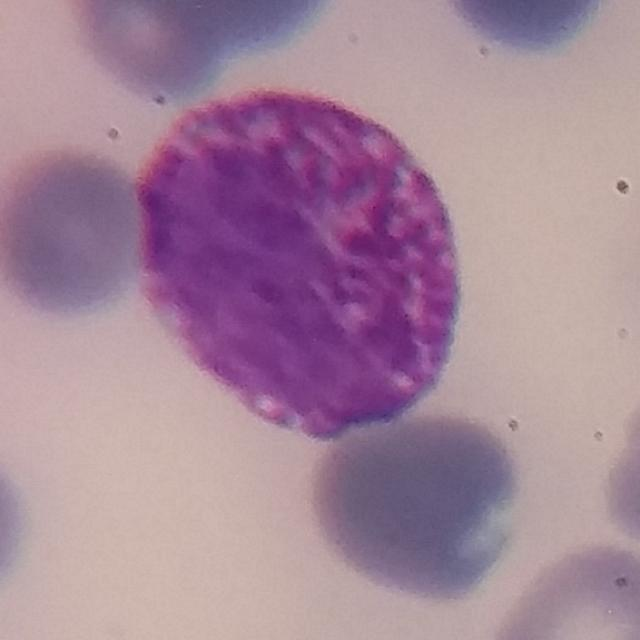Basophil: (128, 72, 478, 442)
RBC: (313, 409, 521, 592), (0, 141, 149, 322), (70, 0, 237, 102), (484, 539, 640, 639), (430, 0, 630, 61), (135, 3, 340, 62), (597, 382, 640, 560), (0, 440, 36, 611)
